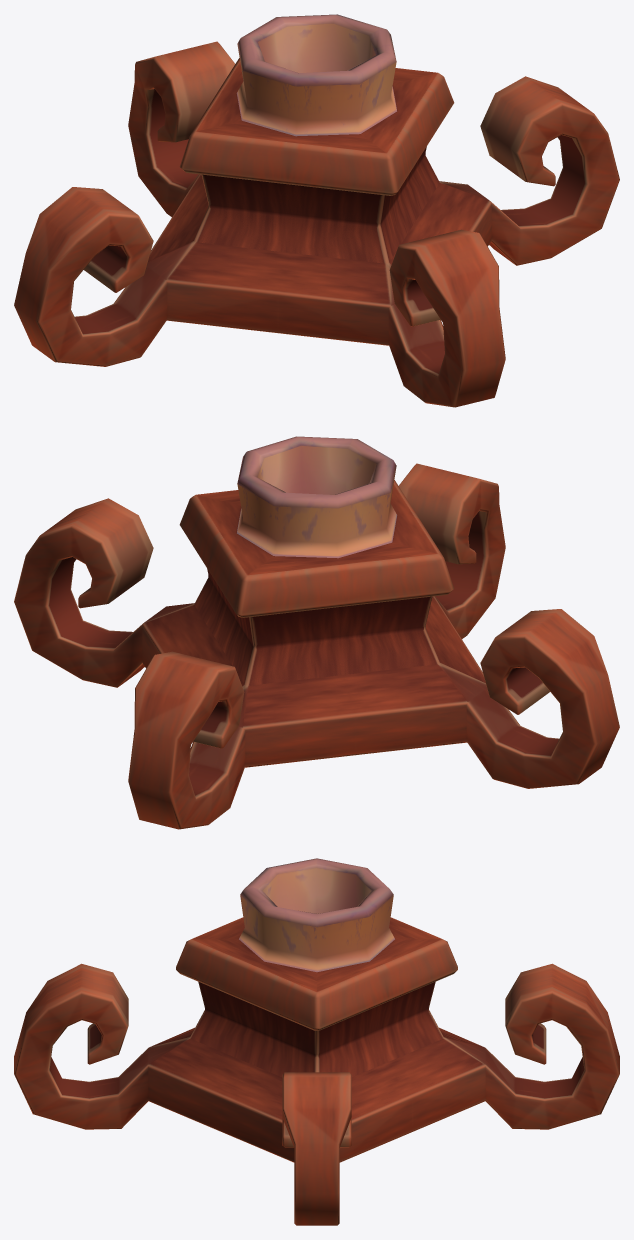
Rendered from lvl2_candle_holder.fbx.
3 views of the same model, one above another, from view 1: azimuth 30°, elevation 25°; view 2: azimuth 150°, elevation 25°; view 3: azimuth 270°, elevation 25° (orthographic). The views are drawn at different scales.
Parts seen in each view (by area): view 1: candle_holder; view 2: candle_holder; view 3: candle_holder.
Boxes of the visible parts, bbox=[...] form: candle_holder: bbox=[14, 14, 619, 407]; candle_holder: bbox=[14, 436, 619, 829]; candle_holder: bbox=[14, 858, 619, 1225].
Bounding box in the file's own units: 726 × 309 × 726.
